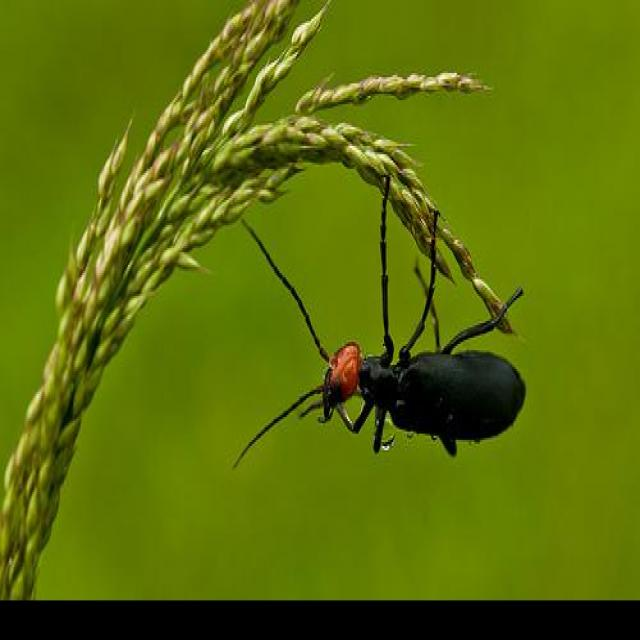BlisterBeetle-Adult-: (223, 164, 538, 458)
